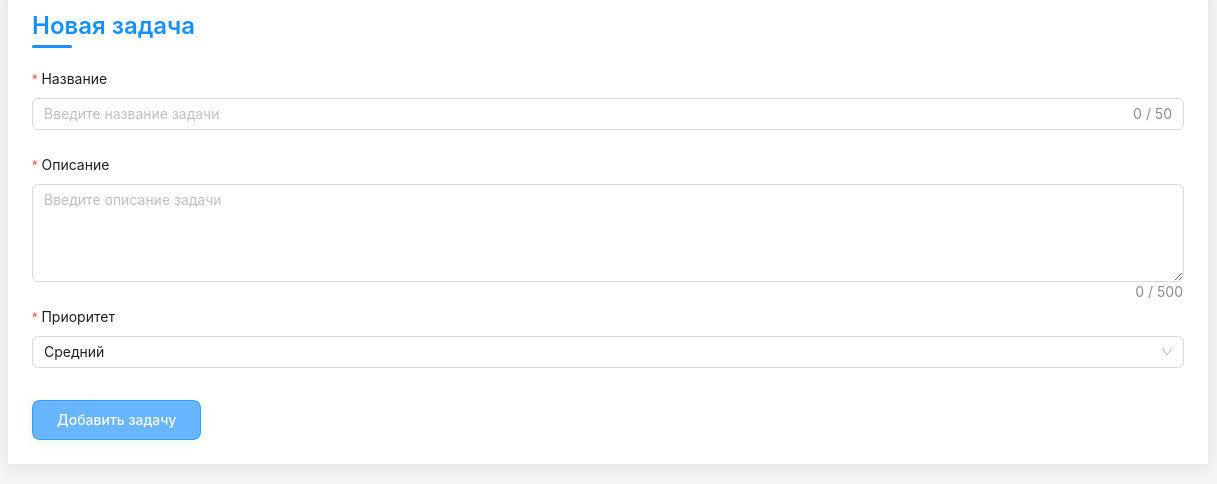
TaskForm › валидирует обязательные поля
Click the button "Добавить задачу": [117, 420] box [32, 400, 201, 440]
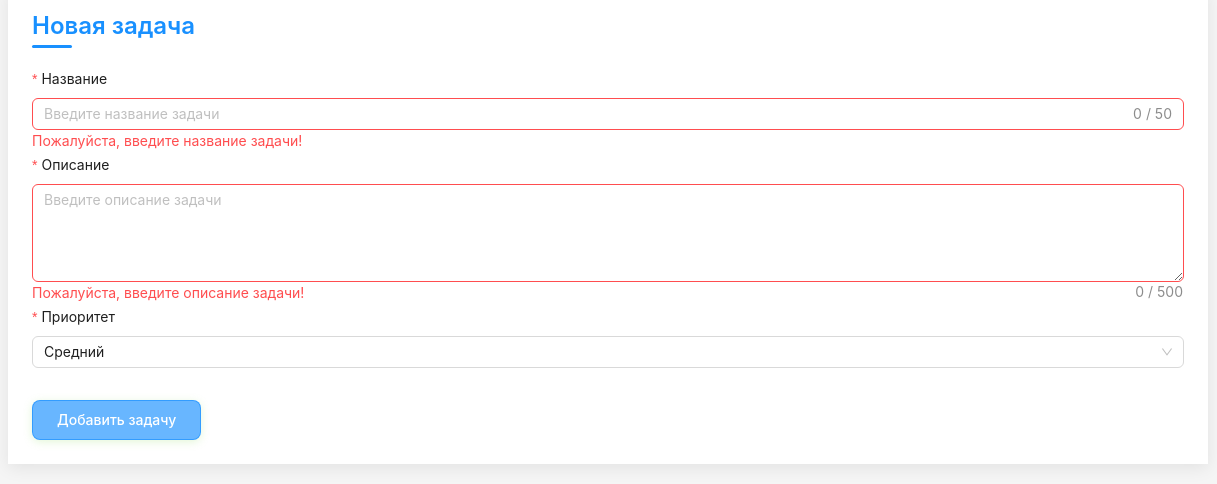
expect the text "Пожалуйста, введите название задачи!" is shown: met, box [32, 132, 302, 149]
expect the text "Пожалуйста, введите описание задачи!" is shown: met, box [32, 284, 304, 301]
